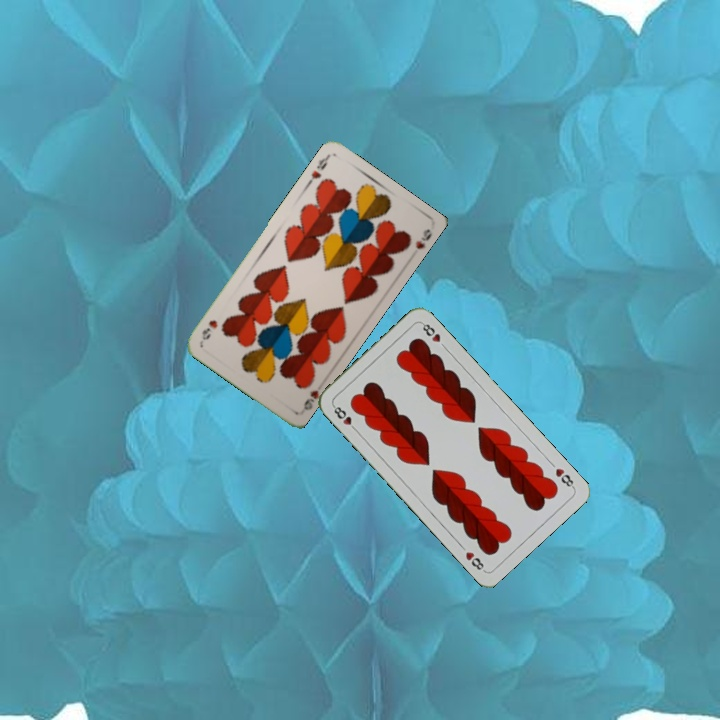H8: (329, 401, 360, 434), (551, 464, 577, 491)
H9: (303, 152, 332, 188), (299, 386, 321, 413)
